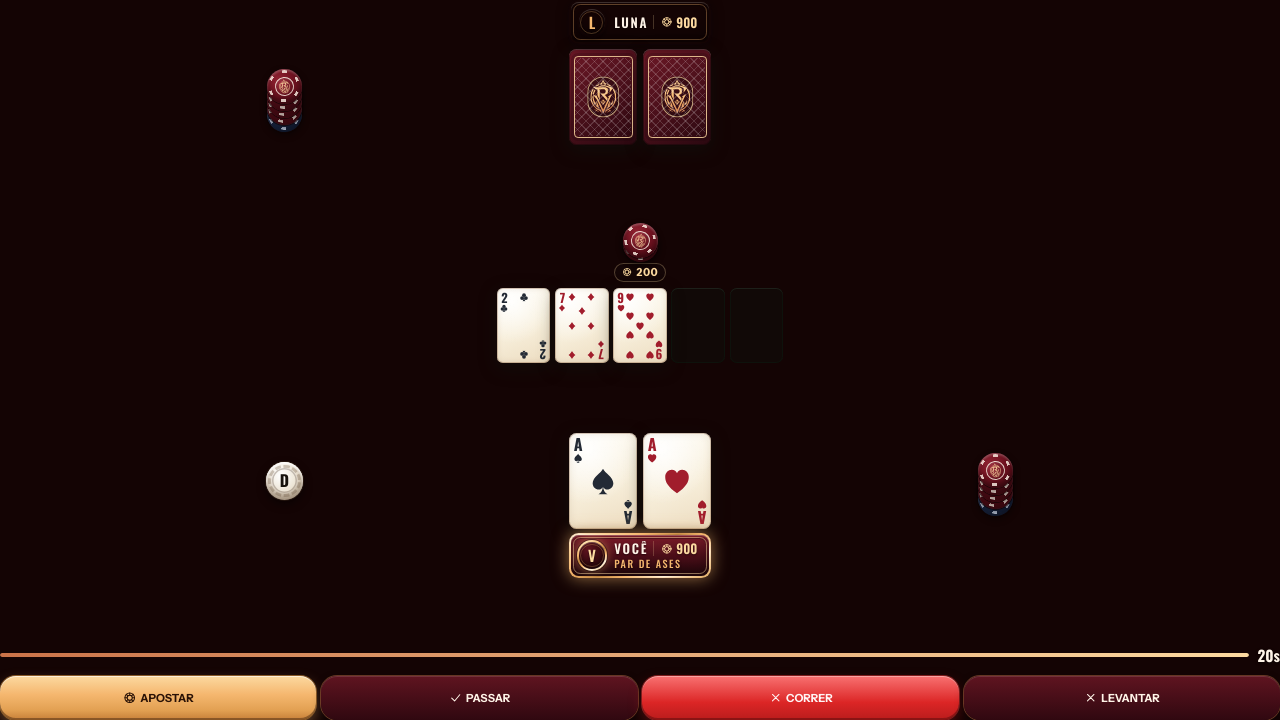
Test: PokerArena — a barra de apostas › CONTINUAR NA MÃO fecha a pergunta e devolve a mesa intacta
The width and height of the screenshot is (1280, 720).
Click the button with test id "leave-table".
click(1122, 698)  # box [964,676,1279,719]
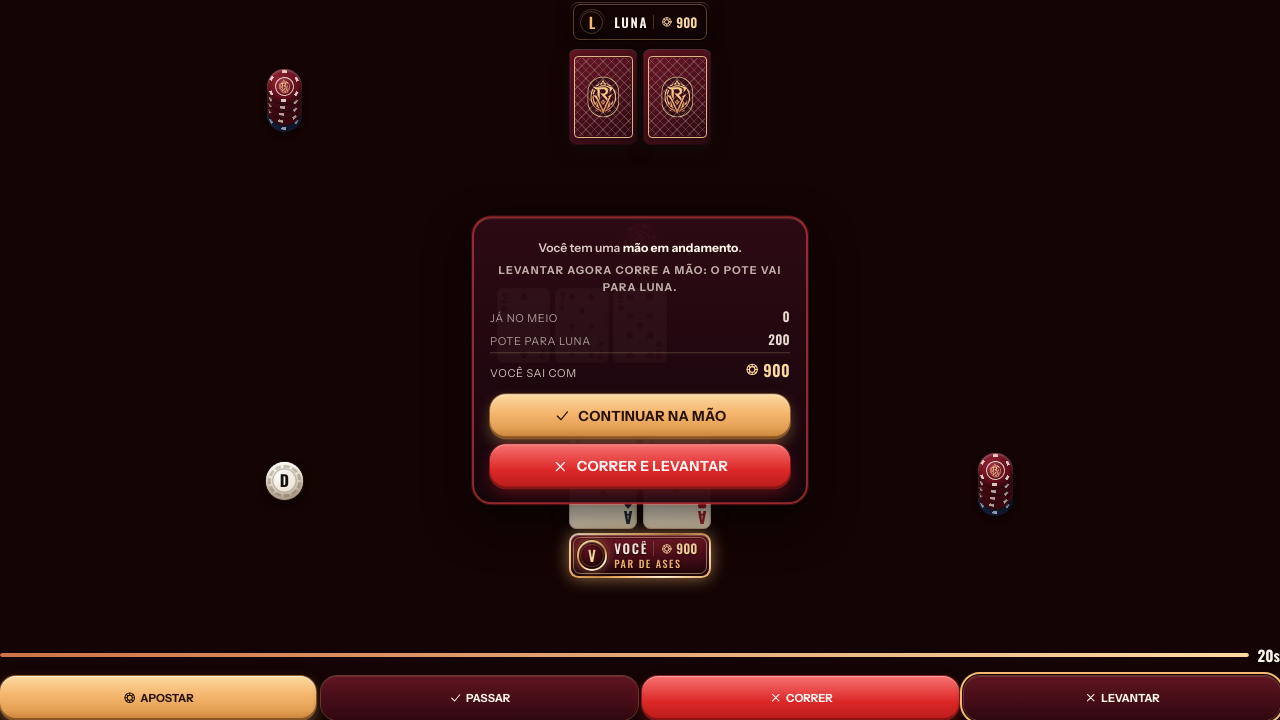
Click the button with test id "leave-cancel".
click(640, 416)  # box [490,394,790,438]
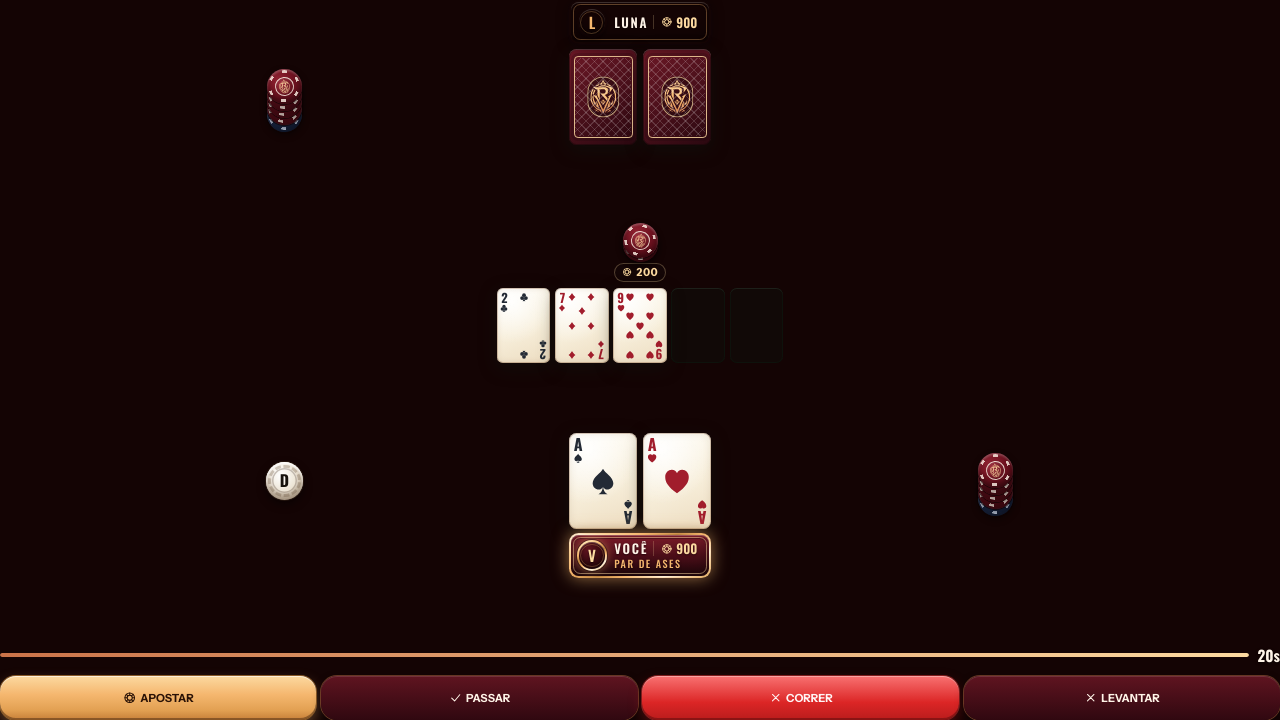
Expected: the element with test id "bet-controls" is shown, [0,644,1279,719]
Result: the dialog with test id "leave-prompt" is gone
